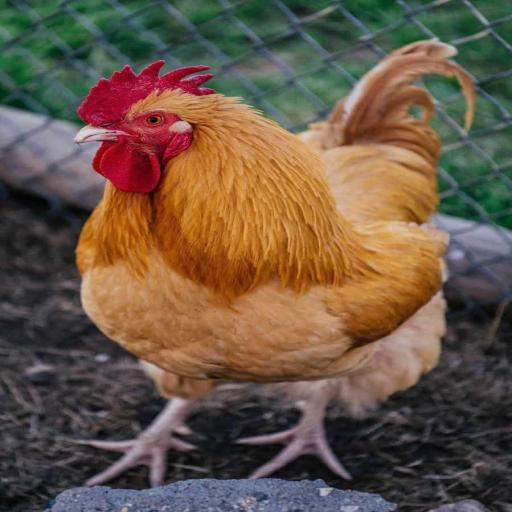healthy: (44, 42, 262, 181), (247, 195, 261, 196)
